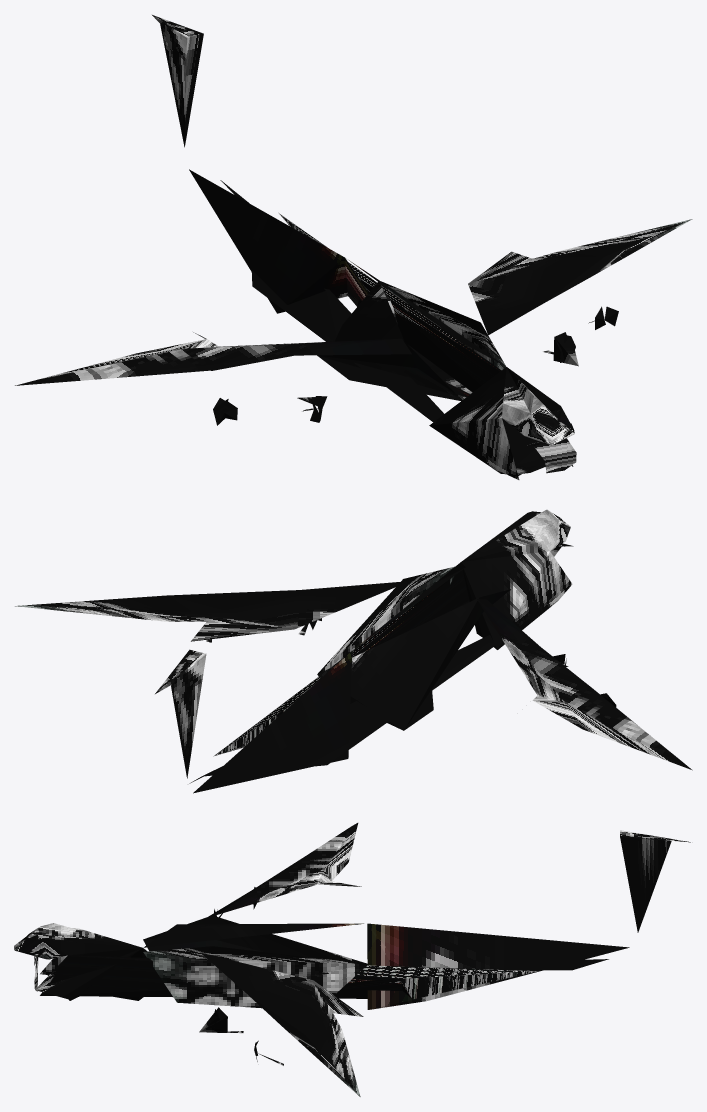
3 renders of one model, top to bottom at view 1: azimuth 30°, elevation 25°; view 2: azimuth 150°, elevation 25°; view 3: azimuth 270°, elevation 25°, orthographic. The views are drawn at different scales.
Visible parts, largest first — view 1: Cover_3_body middle_0; view 2: Cover_3_body middle_0; view 3: Cover_3_body middle_0.
Part boxes in pixels (box(x1,y1,x2,y2)): Cover_3_body middle_0: box(15, 15, 692, 479); Cover_3_body middle_0: box(15, 509, 692, 793); Cover_3_body middle_0: box(14, 823, 690, 1096).
Size of the model in its own units: 67.68 by 18.94 by 70.55.
1 material, 1 textured.
